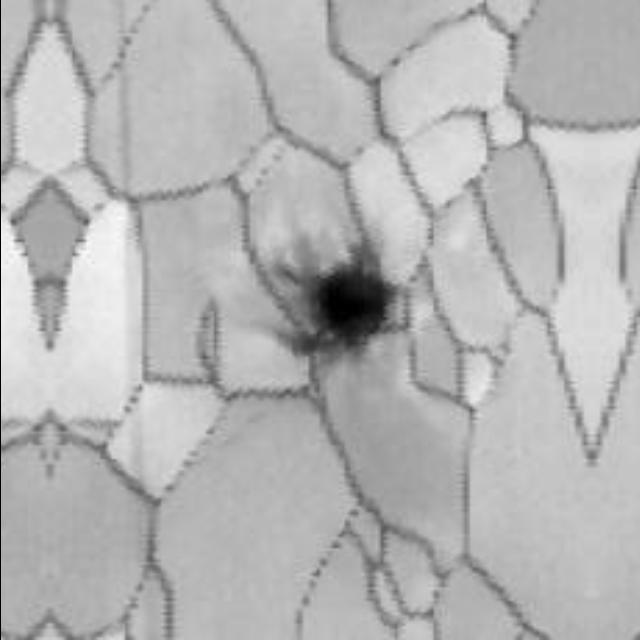good_void: (259, 227, 420, 384)
